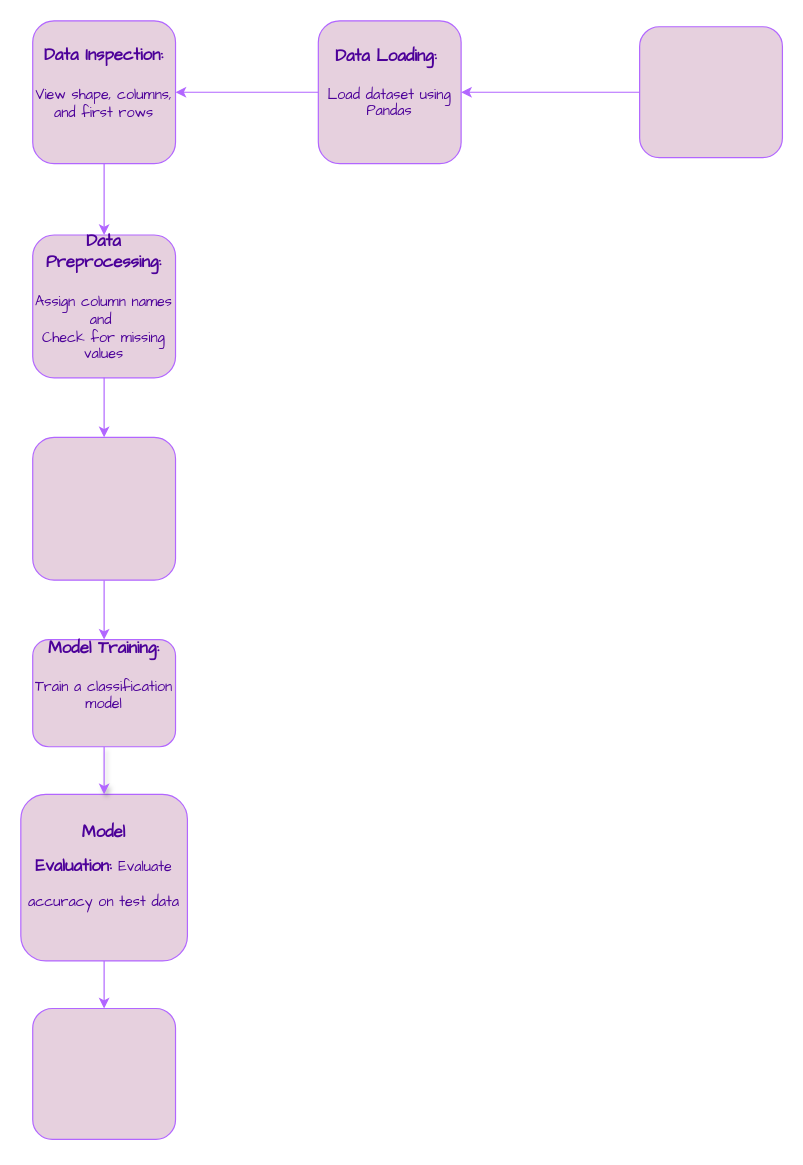
Image size: 803x1165. Some labels were removed from this diagram. The centre of each missing label's shape, as x and y in pixels:
Dataset Selection: Select Iris Flower Dataset: point 710,92
Results: Display model performance results: point 104,1073
Train / Test Split: Split data into training and testing sets: point 104,508
